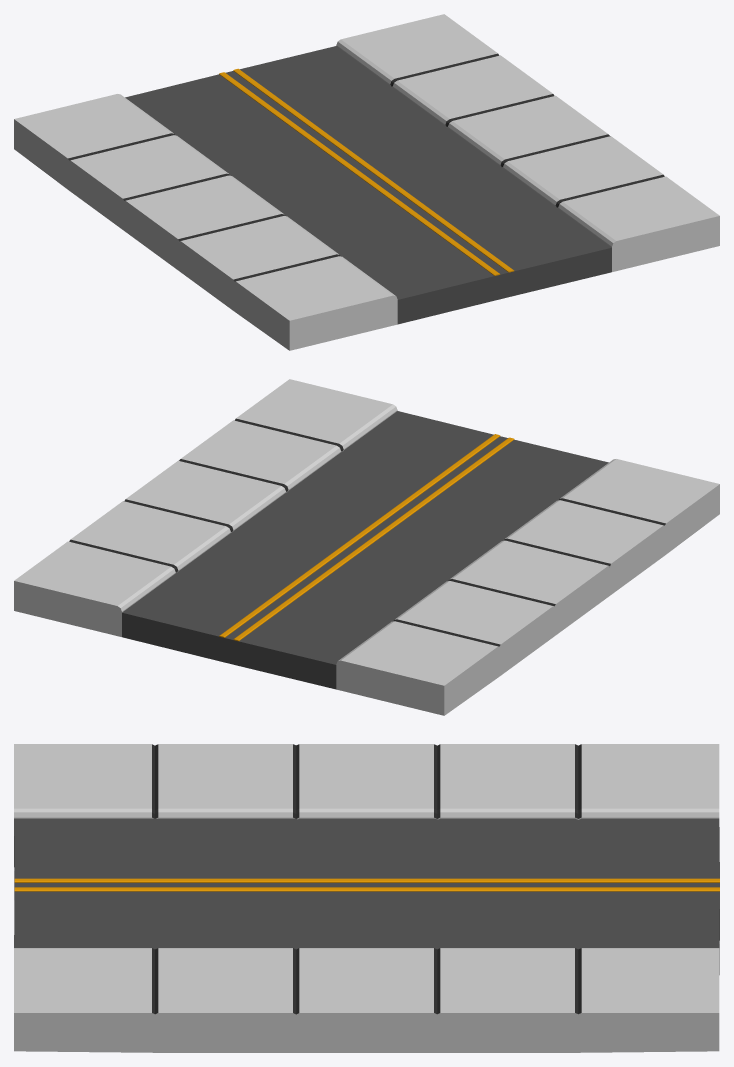
File: Road_01_v2.fbx
3 views of the same model, one above another, from view 1: azimuth 30°, elevation 25°; view 2: azimuth 150°, elevation 25°; view 3: azimuth 270°, elevation 25° (orthographic). The views are drawn at different scales.
Visible parts, largest first — view 1: Road; view 2: Road; view 3: Road.
Part boxes in pixels (left/top/right/bottom): Road: left=14, top=14, right=719, bottom=350; Road: left=14, top=379, right=719, bottom=715; Road: left=14, top=744, right=719, bottom=1052.
Size of the model in its own units: 2940 by 203 by 3256.
